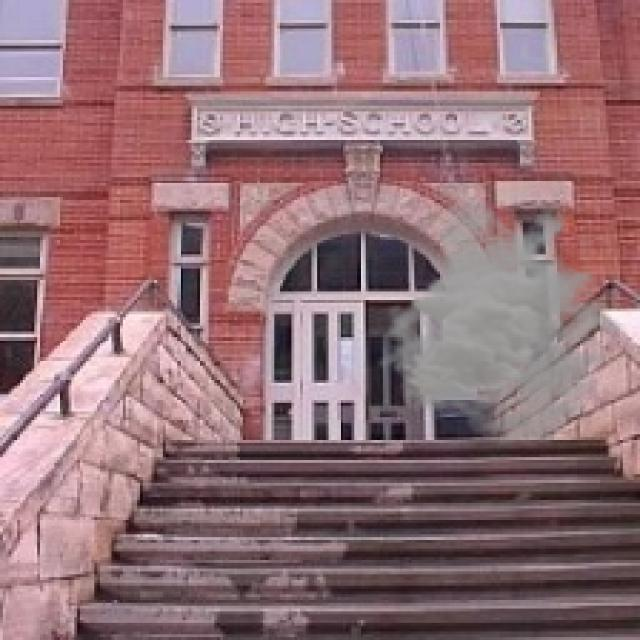smoke: (374, 197, 634, 449)
